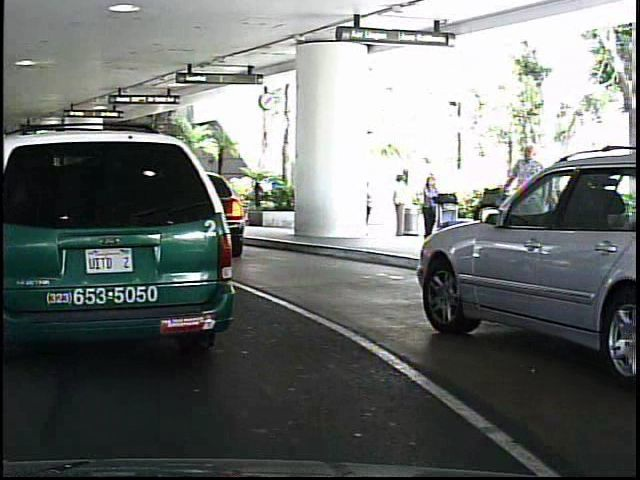person: (496, 136, 551, 275), (413, 168, 443, 240)
